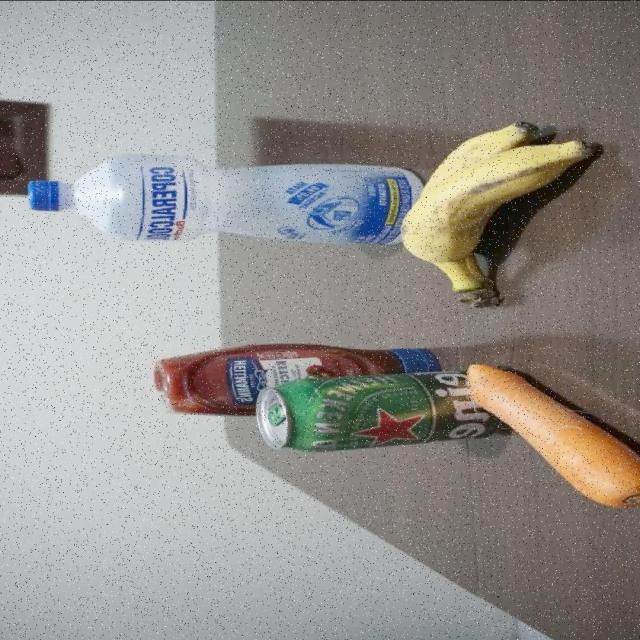AlcoholBottle: (22, 150, 393, 246)
Banana: (400, 118, 594, 310)
BeerCan: (257, 373, 452, 452)
Carrot: (463, 362, 640, 516)
Ketchup: (150, 343, 436, 374)
